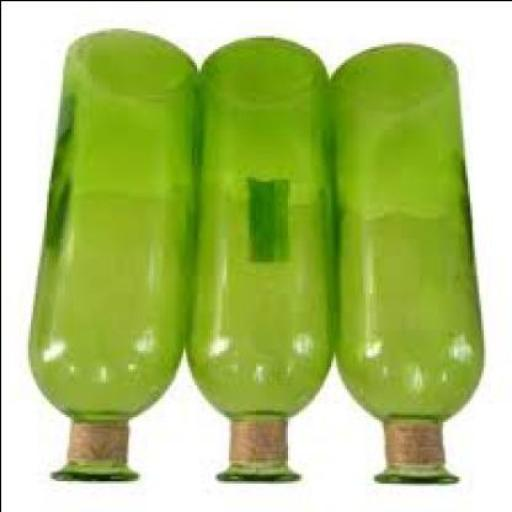glass: (25, 34, 198, 485), (178, 41, 332, 482), (327, 46, 480, 487)
